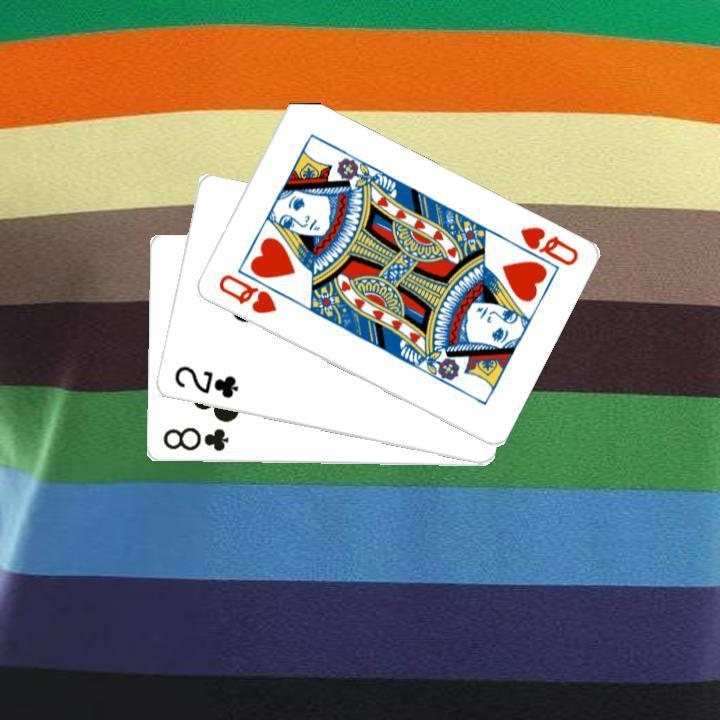2: (169, 362, 240, 401)
8: (158, 424, 230, 454)
Q: (500, 222, 580, 273), (213, 270, 278, 316)
